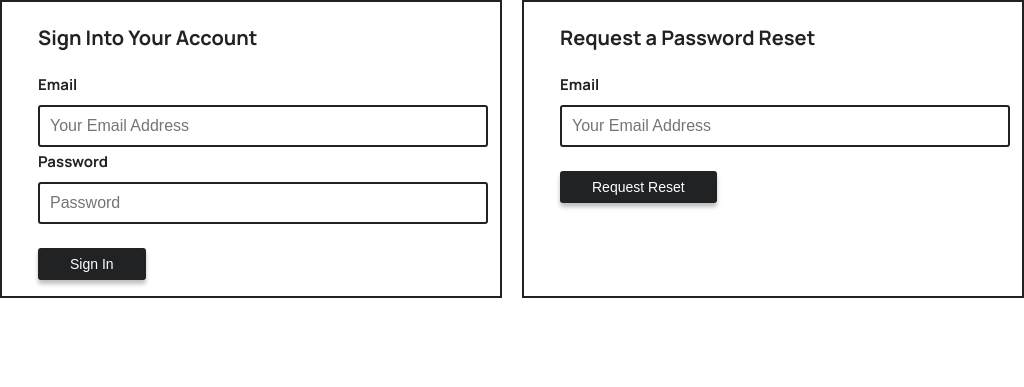
it: displays an error if bad username or password
Step 1. Type "email@example.com" into the field labelled "Email" → (263,126), box [38,105,488,147]
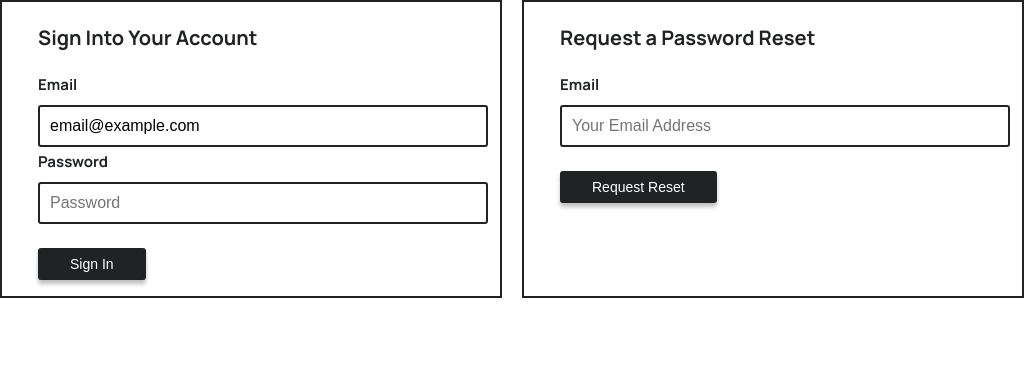
Step 2. Type "password" into the password field labelled "Password" → (263,203), box [38,182,488,224]
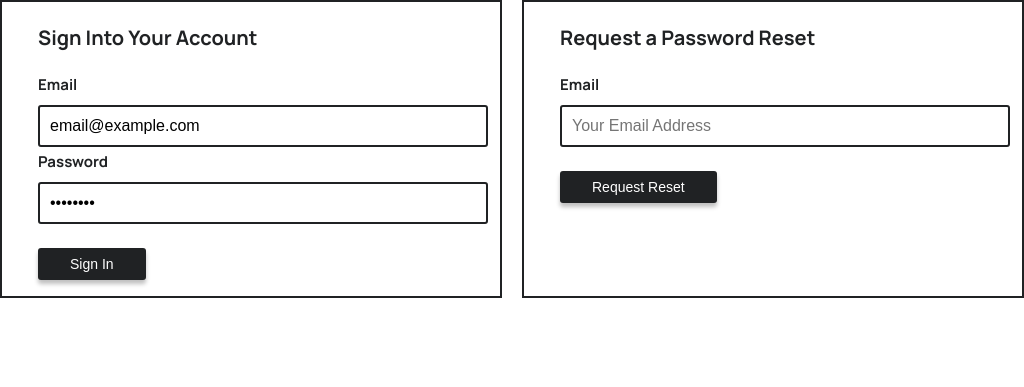
Step 3. Click the button "Sign In" → (92,264), box [38,248,146,280]
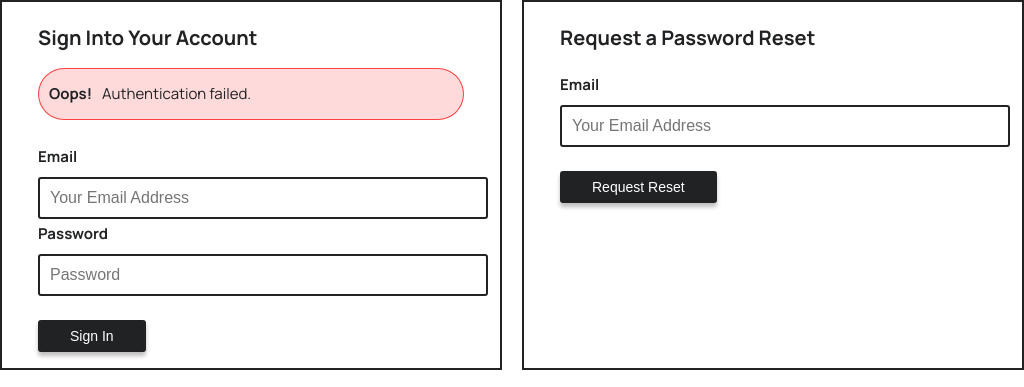
Now the text "Oops!" is shown, box [49,83,92,104]
Now the text "Authentication failed." is shown, box [102,83,251,104]
